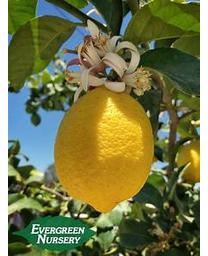lemon: (55, 91, 154, 210)
